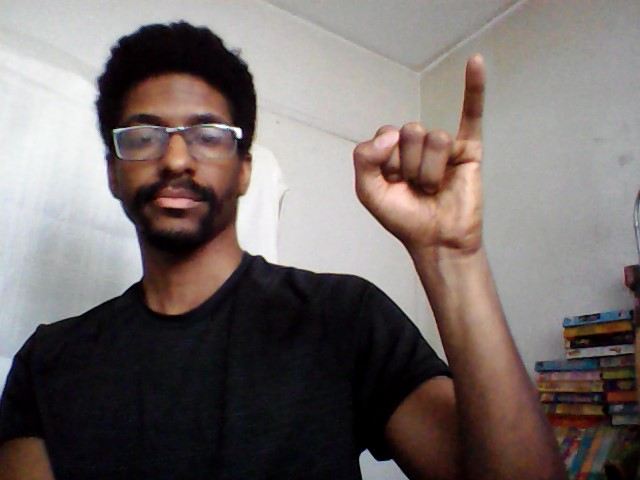i: (349, 48, 492, 260)
